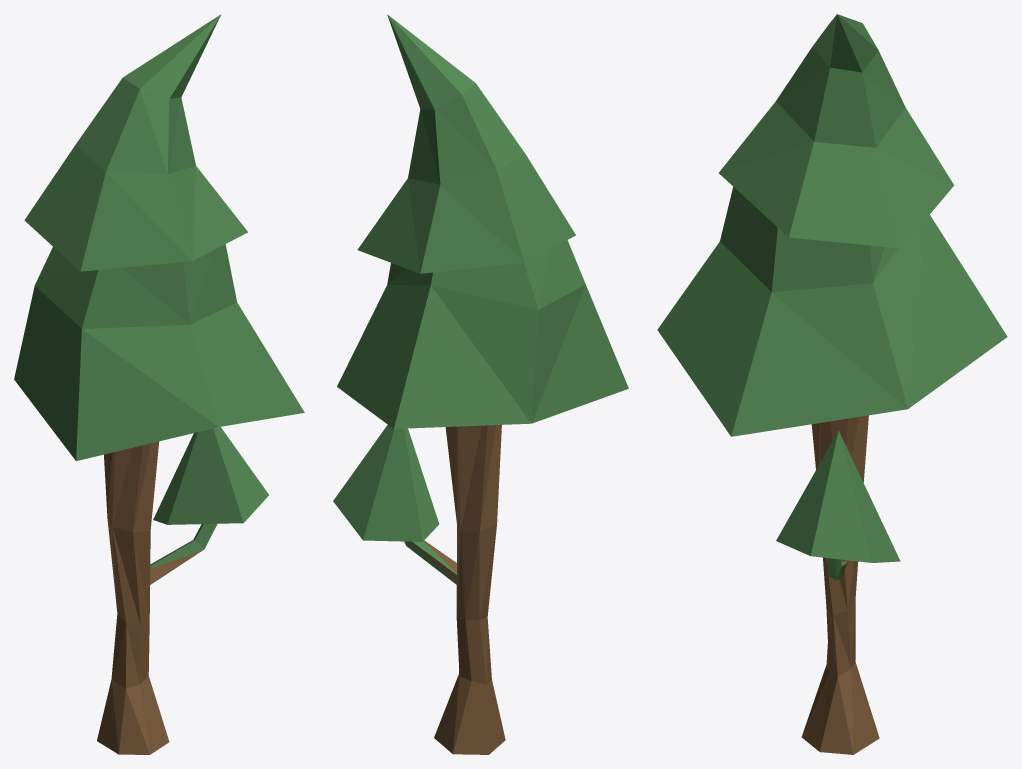
Rendered from tree3d-035.glb.
3 views of the same model, side by side, from view 1: azimuth 30°, elevation 25°; view 2: azimuth 150°, elevation 25°; view 3: azimuth 270°, elevation 25° (orthographic). The views are drawn at different scales.
Parts seen in each view (by area): view 1: tree3d-035; view 2: tree3d-035; view 3: tree3d-035.
Part boxes in pixels (box(x1,y1,x2,y2)): tree3d-035: box(14, 14, 304, 754); tree3d-035: box(333, 14, 628, 754); tree3d-035: box(657, 14, 1007, 754).
Size of the model in its own units: 0.3431 by 1 by 0.4124.
